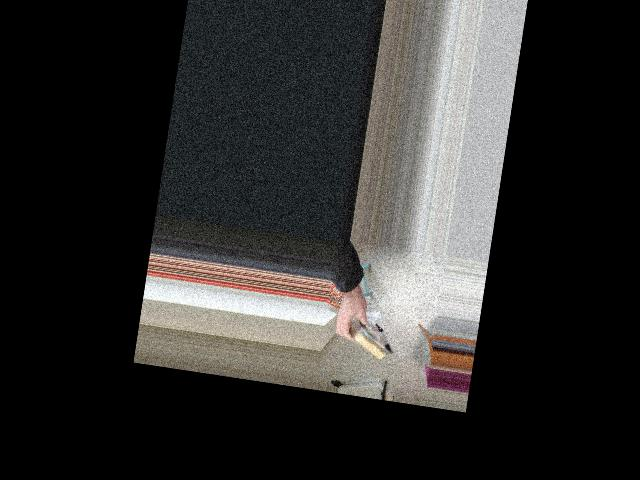cheese: (323, 300, 407, 371)
